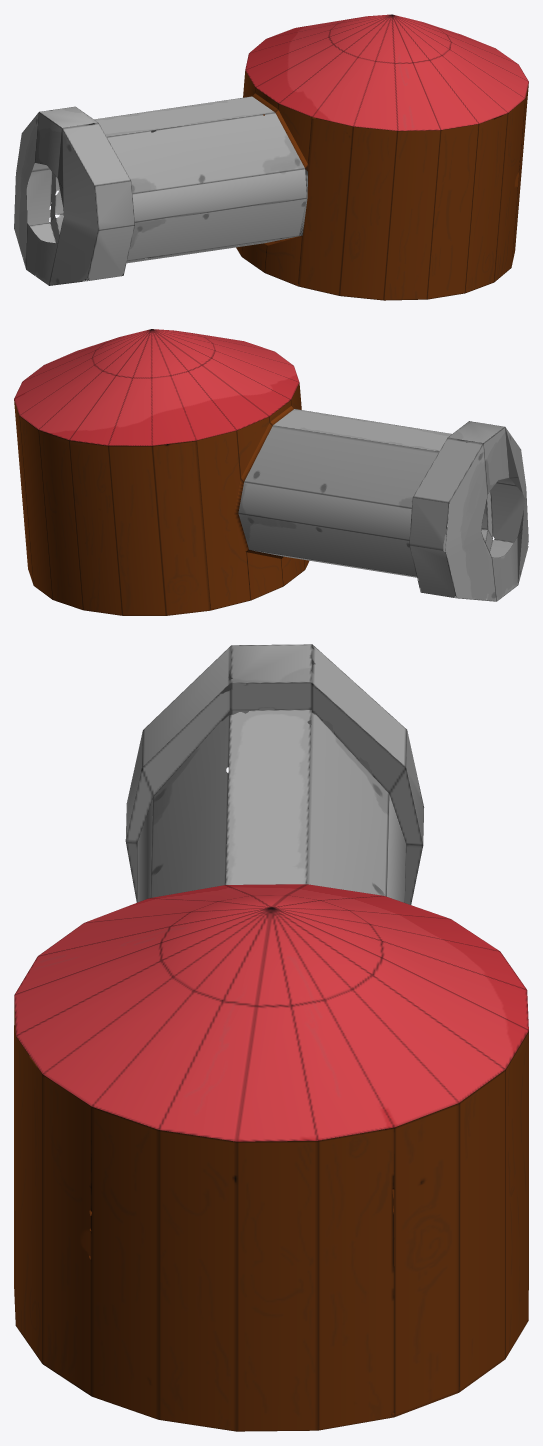
File: Gun Head.fbx
The picture shows the model from 3 angles, top to bottom: view 1: azimuth 30°, elevation 25°; view 2: azimuth 150°, elevation 25°; view 3: azimuth 270°, elevation 25°; orthographic projection. The views are drawn at different scales.
Visible parts, largest first — view 1: polySurface7; view 2: polySurface7; view 3: polySurface7.
Part boxes in pixels (x1=…): polySurface7: x1=14, y1=14, x2=528, y2=300; polySurface7: x1=14, y1=329, x2=528, y2=615; polySurface7: x1=14, y1=644, x2=528, y2=1431.
Bounding box in the file's own units: 11.58 × 5.57 × 6.02.
Materials: 1 (1 with a texture image).
